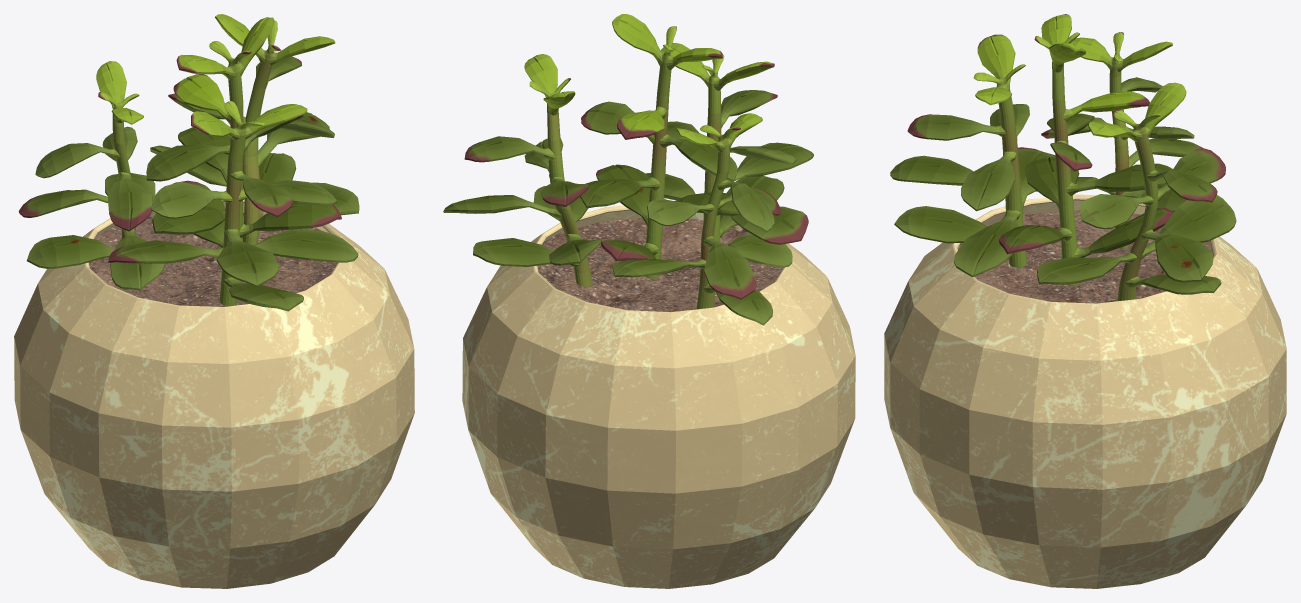
Rendered from Plant.fbx.
3 views of the same model, side by side, from view 1: azimuth 30°, elevation 25°; view 2: azimuth 150°, elevation 25°; view 3: azimuth 270°, elevation 25° (orthographic). The views are drawn at different scales.
Visible parts, largest first — view 1: Vase, Plant, Soil; view 2: Vase, Plant, Soil; view 3: Vase, Plant, Soil.
Boxes of the visible parts, x1,y1,x2,y2 form: Vase: (14, 199, 414, 588); Plant: (18, 14, 359, 311); Soil: (88, 211, 337, 306); Vase: (462, 205, 855, 588); Plant: (443, 14, 813, 325); Soil: (537, 217, 783, 312); Vase: (884, 194, 1286, 588); Plant: (890, 14, 1236, 301); Soil: (957, 209, 1212, 303).
Bounding box in the file's own units: 19.65 × 27.66 × 19.62.
